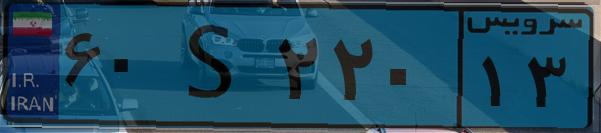0: (385, 28, 445, 110), (110, 28, 158, 98)
1: (475, 38, 525, 113)
2: (270, 28, 330, 110), (330, 28, 385, 110)
3: (525, 38, 570, 115)
6: (57, 26, 110, 100)
S: (158, 12, 270, 120)
